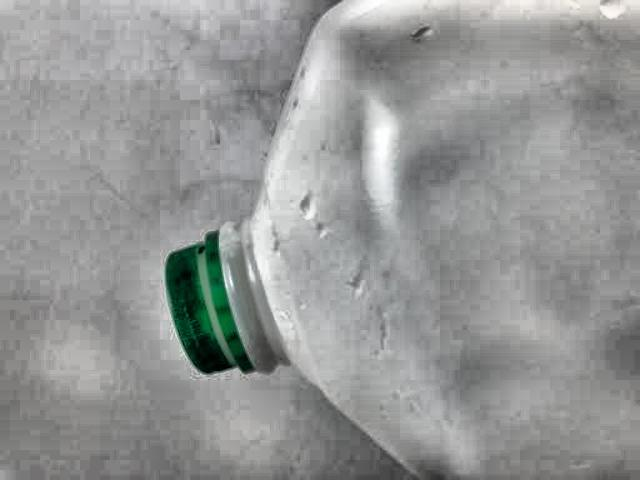Plastic: (161, 0, 640, 459)
